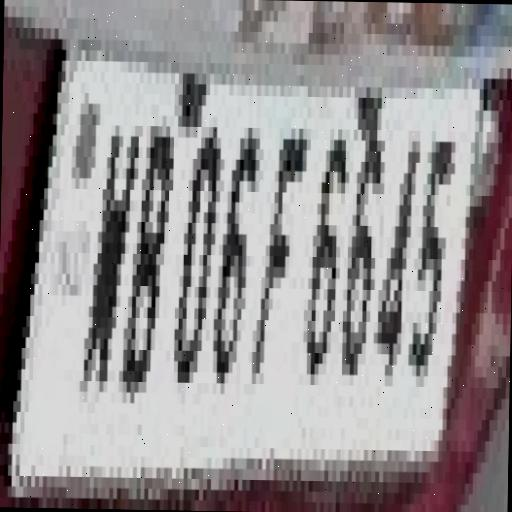number plate: (0, 49, 496, 495)
